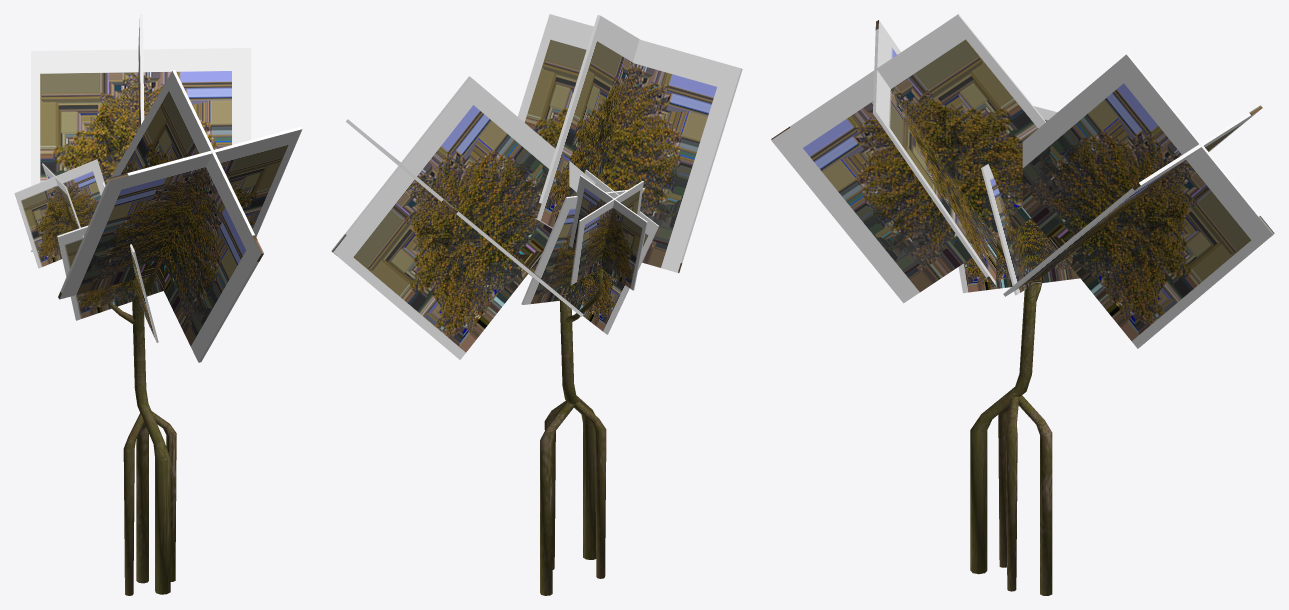
Rendered from tree.fbx.
The picture shows the model from 3 angles, left to right: view 1: azimuth 30°, elevation 25°; view 2: azimuth 150°, elevation 25°; view 3: azimuth 270°, elevation 25°; orthographic projection. The views are drawn at different scales.
Parts seen in each view (by area): view 1: tree, Cylinder; view 2: tree, Cylinder; view 3: tree, Cylinder.
Boxes of the visible parts, x1,y1,x2,y2 form: tree: (14, 14, 302, 362); Cylinder: (109, 266, 176, 595); tree: (331, 14, 742, 359); Cylinder: (520, 258, 606, 595); tree: (771, 14, 1274, 348); Cylinder: (970, 239, 1057, 595).
Size of the model in its own units: 3836 by 7445 by 5928.
Materials: 2 (2 with a texture image).
